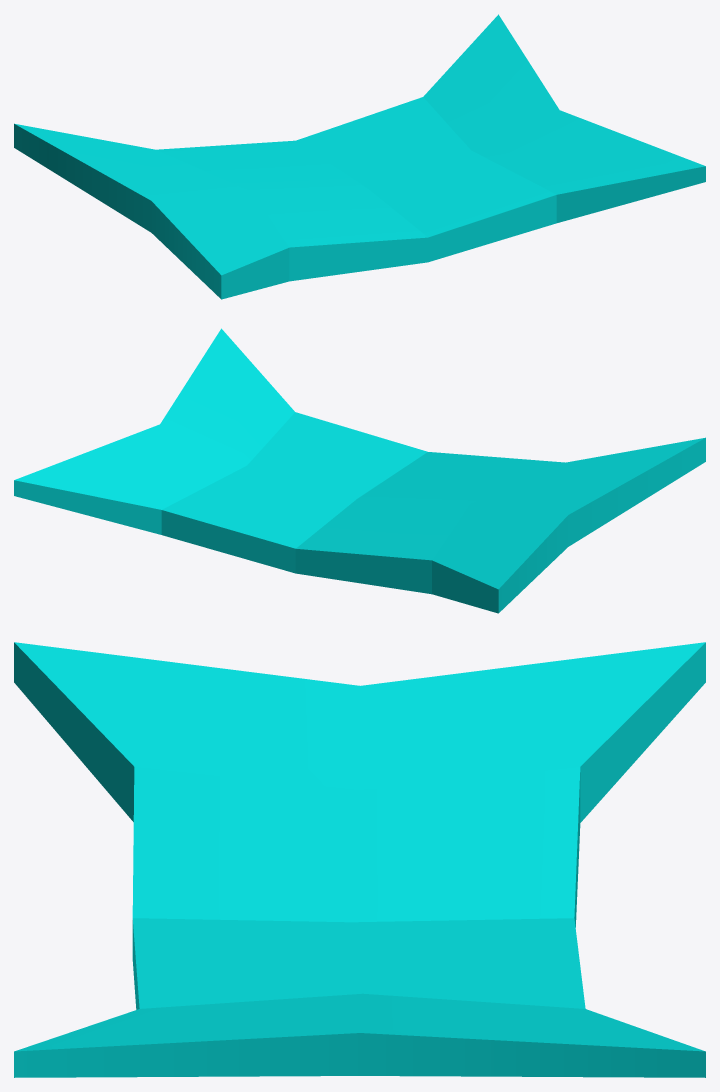
The model's file is SM_Prop_Canopy_02_Collision.fbx.
The picture shows the model from 3 angles, top to bottom: view 1: azimuth 30°, elevation 25°; view 2: azimuth 150°, elevation 25°; view 3: azimuth 270°, elevation 25°; orthographic projection. The views are drawn at different scales.
Parts seen in each view (by area): view 1: SM_Prop_Canopy_02_Collision; view 2: SM_Prop_Canopy_02_Collision; view 3: SM_Prop_Canopy_02_Collision.
Part boxes in pixels (x1=…): SM_Prop_Canopy_02_Collision: x1=14, y1=14, x2=705, y2=299; SM_Prop_Canopy_02_Collision: x1=14, y1=328, x2=705, y2=613; SM_Prop_Canopy_02_Collision: x1=14, y1=642, x2=705, y2=1077.
Bounding box in the file's own units: 771 × 110 × 572.
